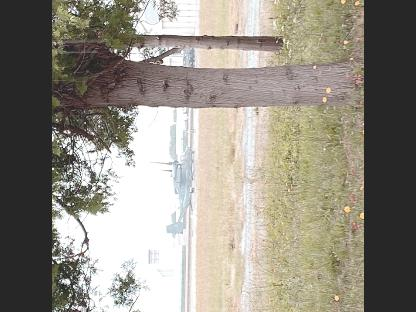Tornado: (146, 145, 194, 233)
